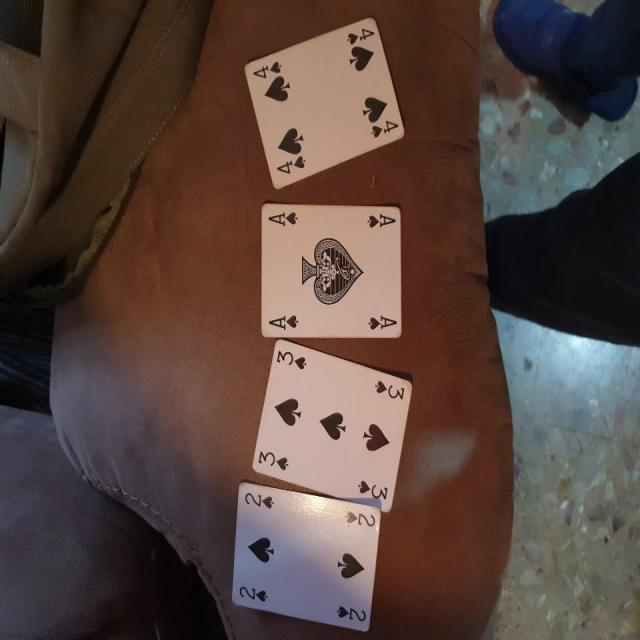2 Spades: (220, 470, 391, 638)
3 Spades: (242, 336, 428, 523)
4 Spades: (239, 10, 411, 194)
A Spades: (250, 195, 417, 356)
